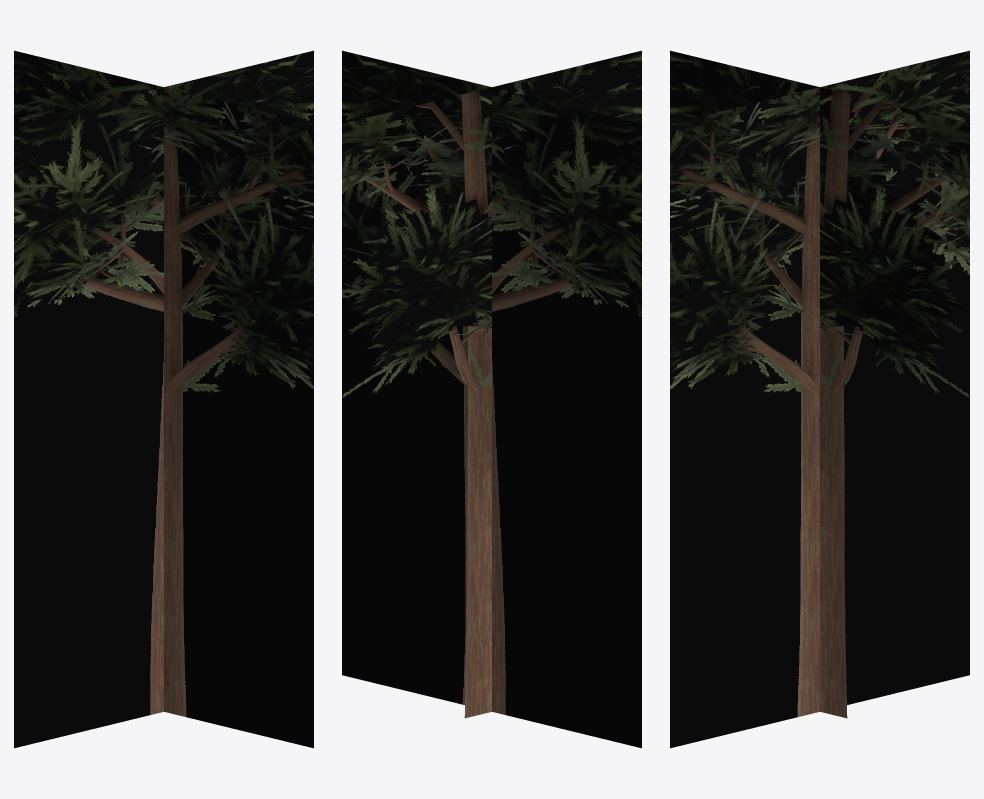
Rendered from borovice_stara_daleko.glb.
3 renders of one model, left to right at view 1: azimuth 30°, elevation 25°; view 2: azimuth 150°, elevation 25°; view 3: azimuth 270°, elevation 25°, orthographic.
Visible parts, largest first — view 1: borovice_stara_daleko; view 2: borovice_stara_daleko; view 3: borovice_stara_daleko.
Part boxes in pixels (x1,y1,x2,y2): borovice_stara_daleko: (14, 50, 313, 748); borovice_stara_daleko: (342, 50, 641, 748); borovice_stara_daleko: (670, 50, 969, 748).
Bounding box in the file's own units: 9.99 × 19.88 × 8.65.
3 materials, 3 textured.
